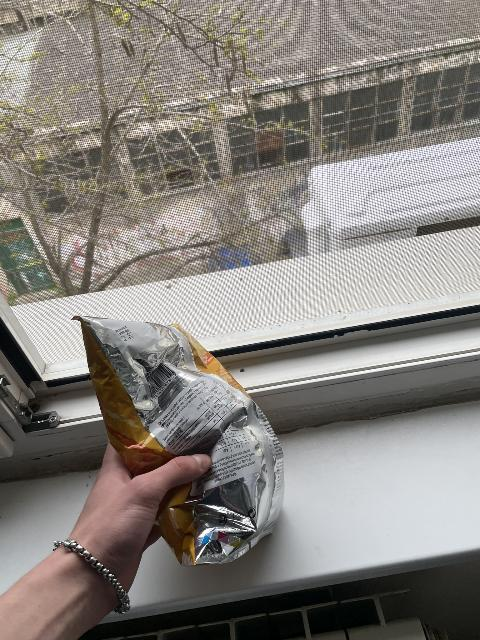Chio Hula Hoops Cheese 70g: (74, 316, 288, 566)
